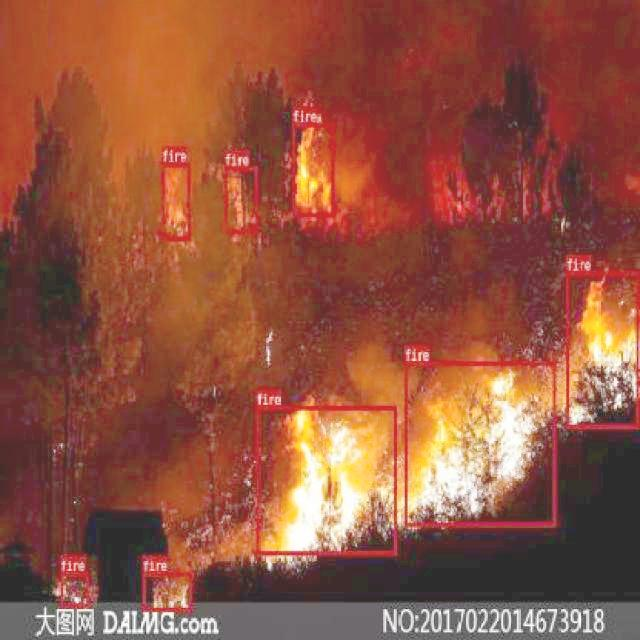fire: (404, 360, 554, 526), (256, 406, 396, 554), (566, 270, 639, 428), (292, 122, 334, 216), (224, 165, 258, 233), (162, 162, 190, 240), (142, 571, 192, 611), (60, 571, 88, 607)
